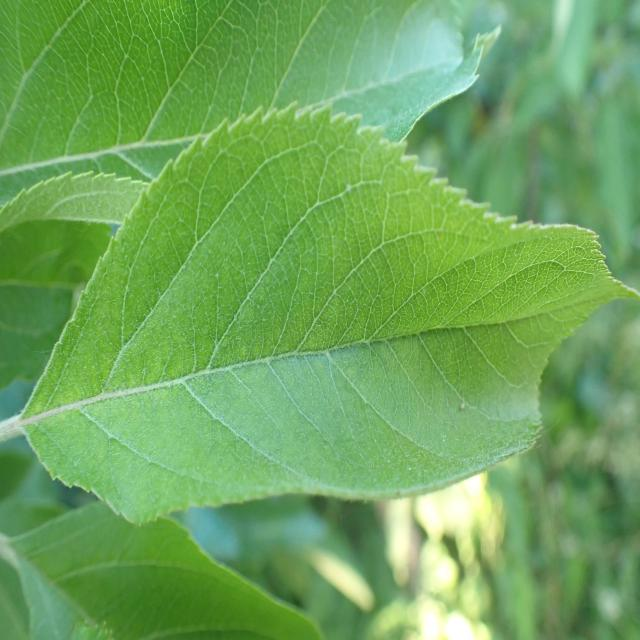healthy: (23, 98, 640, 526), (1, 0, 503, 202), (4, 501, 325, 640)
